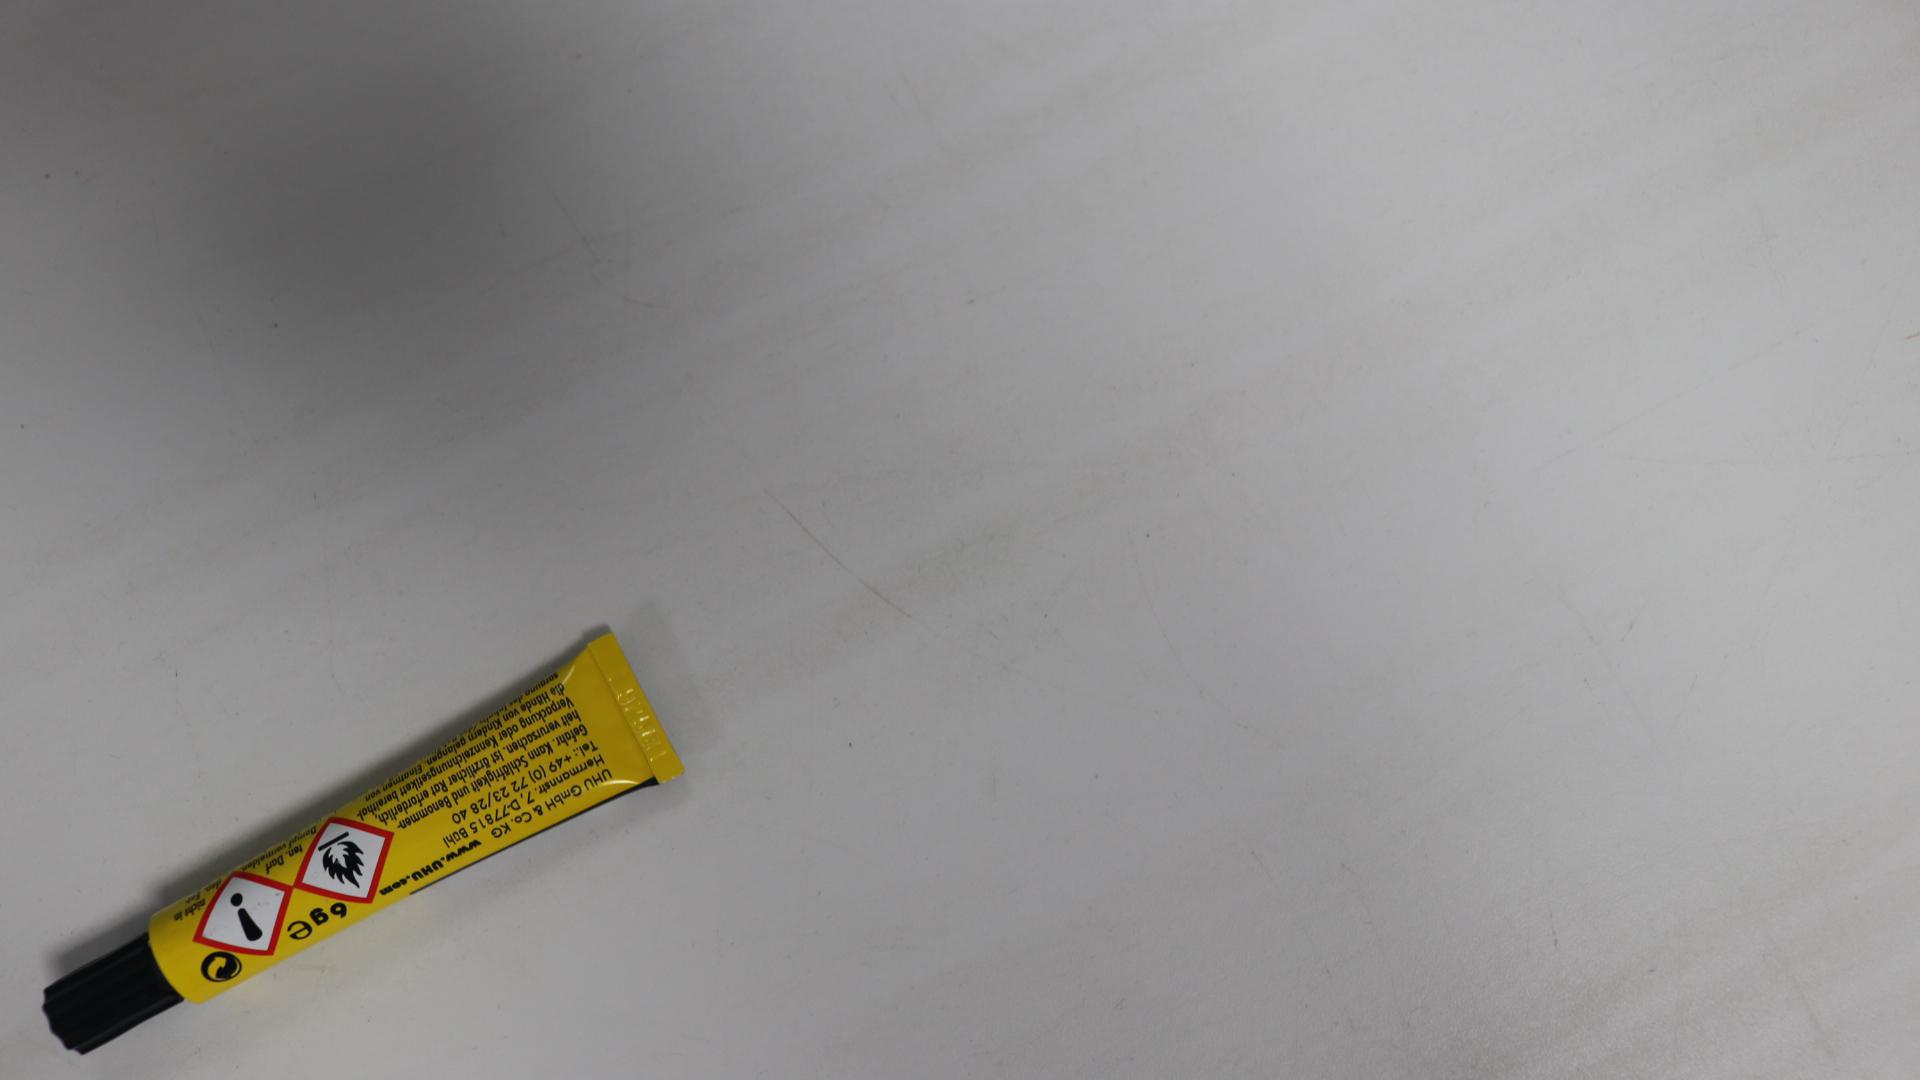Head: (99, 992, 115, 1007)
Tail: (631, 708, 644, 721)
Tube: (43, 630, 683, 1054)
